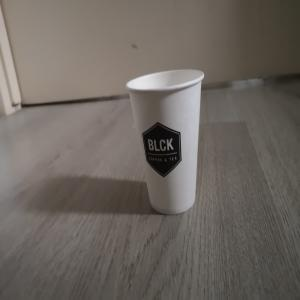Cup: (126, 69, 206, 217)
